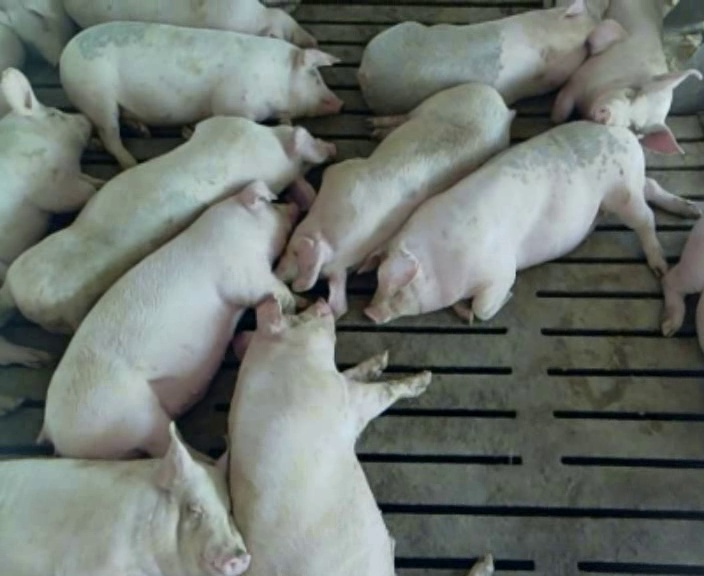pig: (0, 117, 334, 331), (357, 121, 697, 323), (276, 84, 513, 317), (60, 22, 341, 167), (0, 422, 249, 574), (358, 2, 629, 113), (552, 2, 701, 152), (63, 1, 316, 47), (662, 214, 703, 351)
